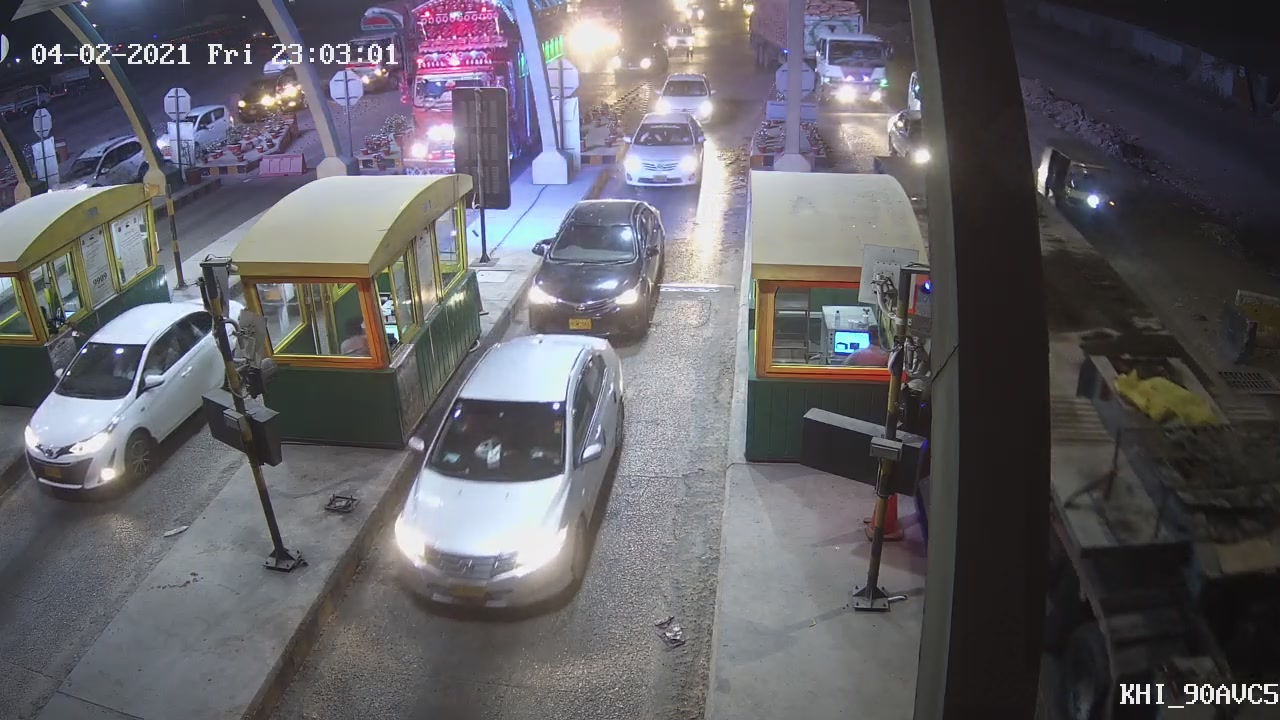F1: (388, 328, 630, 619), (521, 196, 683, 345), (620, 108, 713, 195)
